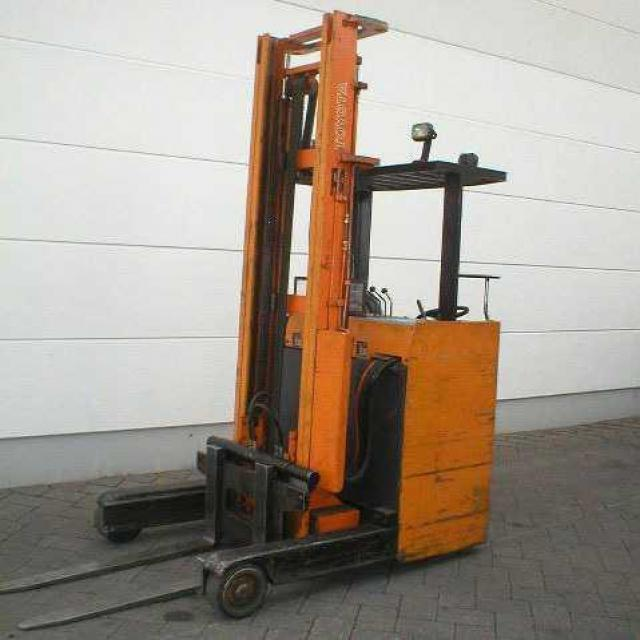forklift: (1, 0, 510, 633)
